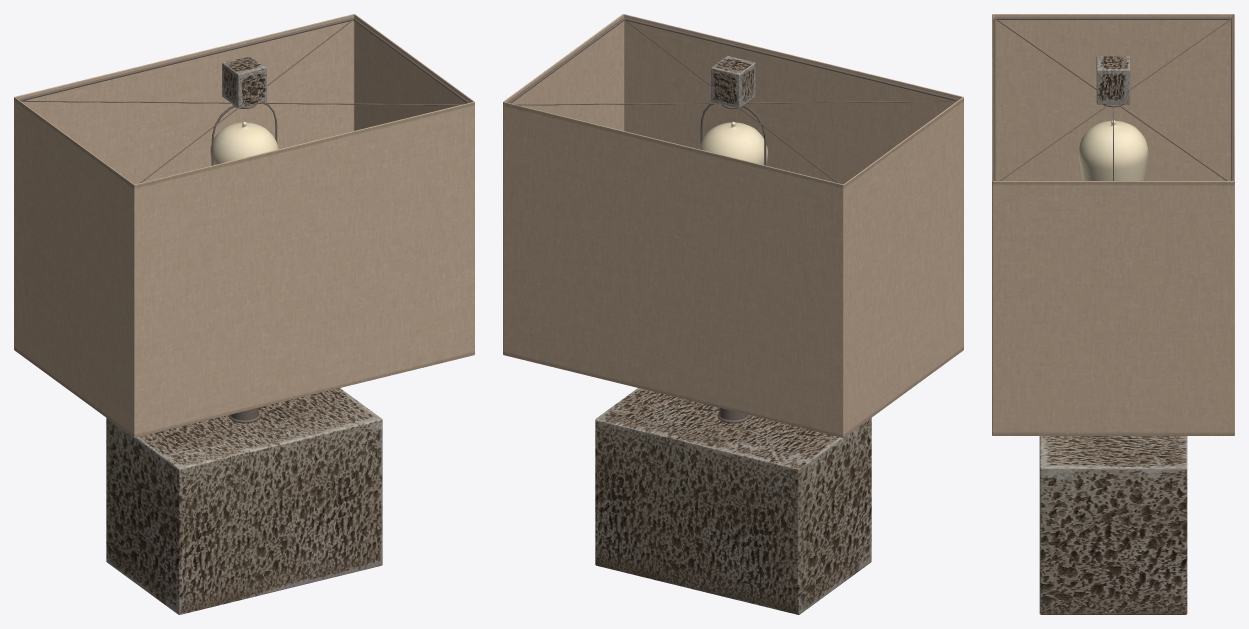
File: abo-B073772TP9.glb
3 renders of one model, left to right at view 1: azimuth 30°, elevation 25°; view 2: azimuth 150°, elevation 25°; view 3: azimuth 270°, elevation 25°, orthographic.
Size of the model in its own units: 0.294 by 0.411 by 0.18.
Materials: 1 (1 with a texture image).
